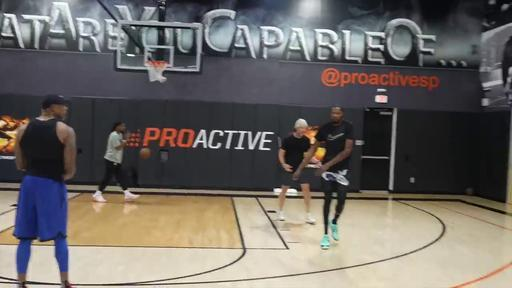ball: (140, 147, 150, 159)
human: (15, 94, 76, 288), (292, 105, 354, 249), (278, 118, 320, 224), (91, 121, 140, 202)
rim: (146, 61, 168, 82)
